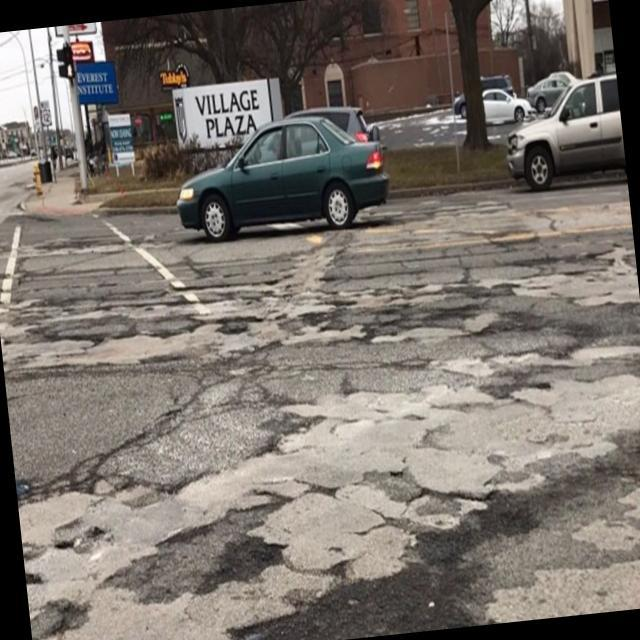Pothole: (223, 457, 640, 640), (477, 289, 640, 420), (118, 493, 310, 602), (464, 204, 634, 269), (412, 274, 508, 334), (61, 461, 130, 511), (202, 302, 270, 348), (358, 306, 410, 364), (44, 319, 114, 362), (39, 600, 112, 640), (287, 298, 364, 330), (61, 526, 109, 566), (72, 269, 132, 293)
